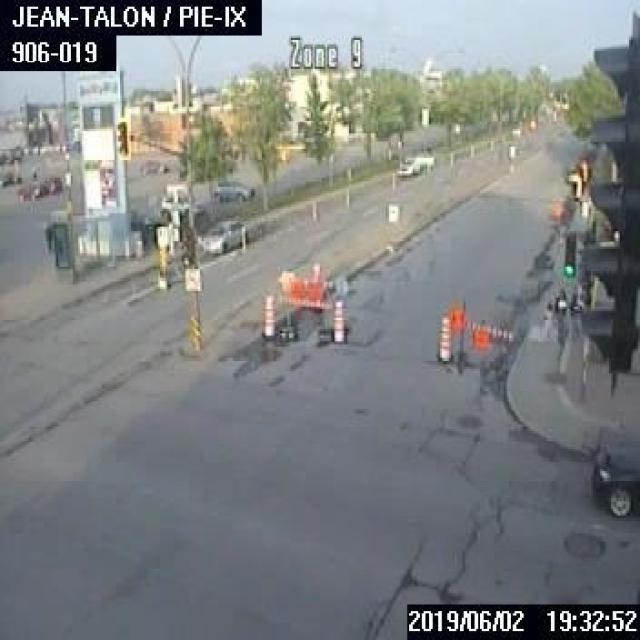construction: (272, 262, 348, 343), (448, 300, 514, 362), (331, 299, 346, 342), (260, 294, 273, 338), (437, 315, 449, 361)
pedestrian: (567, 286, 581, 340), (552, 286, 566, 340), (542, 300, 552, 336), (43, 222, 52, 250)
vehicle: (590, 430, 638, 518), (198, 216, 247, 251), (160, 194, 203, 218), (213, 178, 253, 200), (395, 154, 434, 176), (15, 180, 46, 197), (138, 156, 164, 173), (42, 175, 61, 193), (509, 124, 520, 138)
